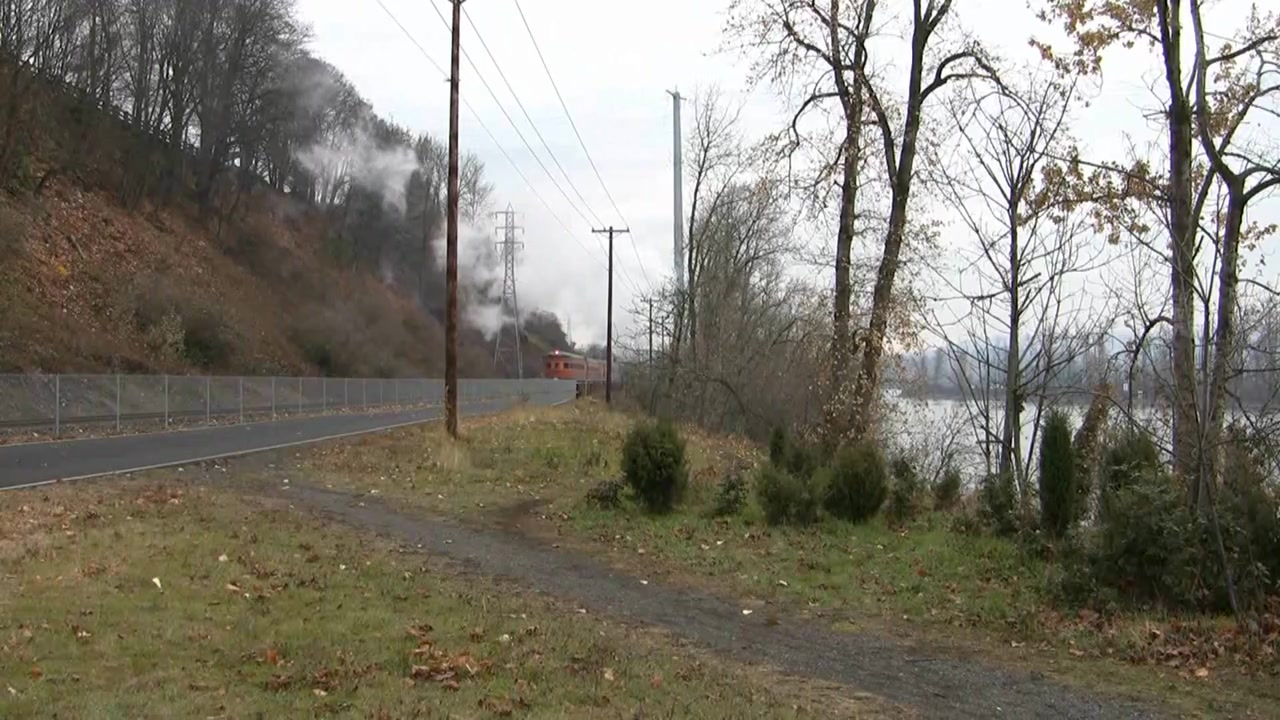train: (544, 341, 622, 386)
